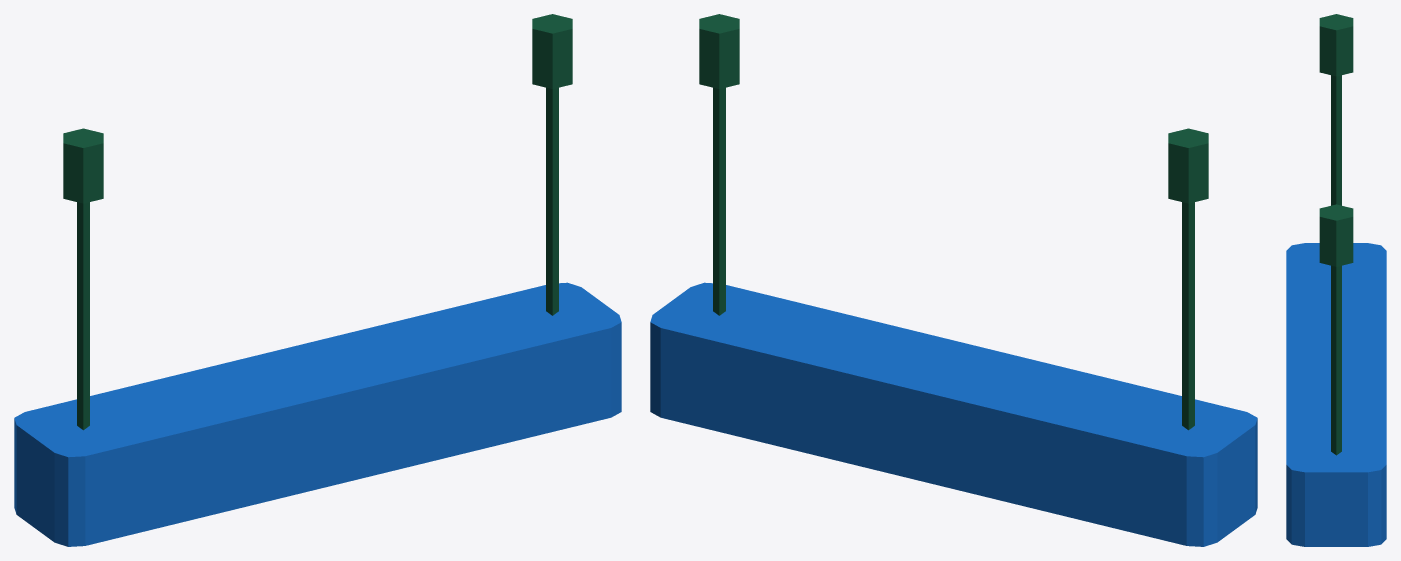
File: T_ceiling_lamp3.fbx
3 renders of one model, left to right at view 1: azimuth 30°, elevation 25°; view 2: azimuth 150°, elevation 25°; view 3: azimuth 270°, elevation 25°, orthographic. The views are drawn at different scales.
Parts seen in each view (by area): view 1: ceiling_lamp3; view 2: ceiling_lamp3; view 3: ceiling_lamp3.
Part boxes in pixels (bbox=[...]): ceiling_lamp3: bbox=[14, 14, 621, 546]; ceiling_lamp3: bbox=[650, 14, 1257, 546]; ceiling_lamp3: bbox=[1286, 14, 1386, 546].
Size of the model in its own units: 132 by 84.37 by 24.41.
